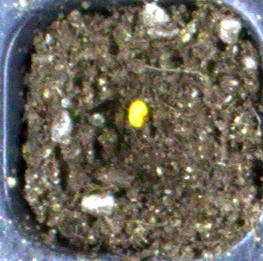chilli seed: (128, 100, 147, 127)
